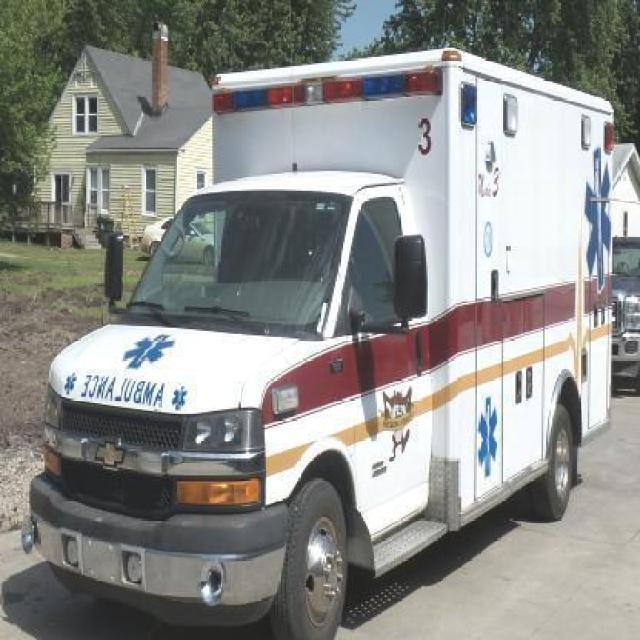emergency: (20, 46, 618, 638)
